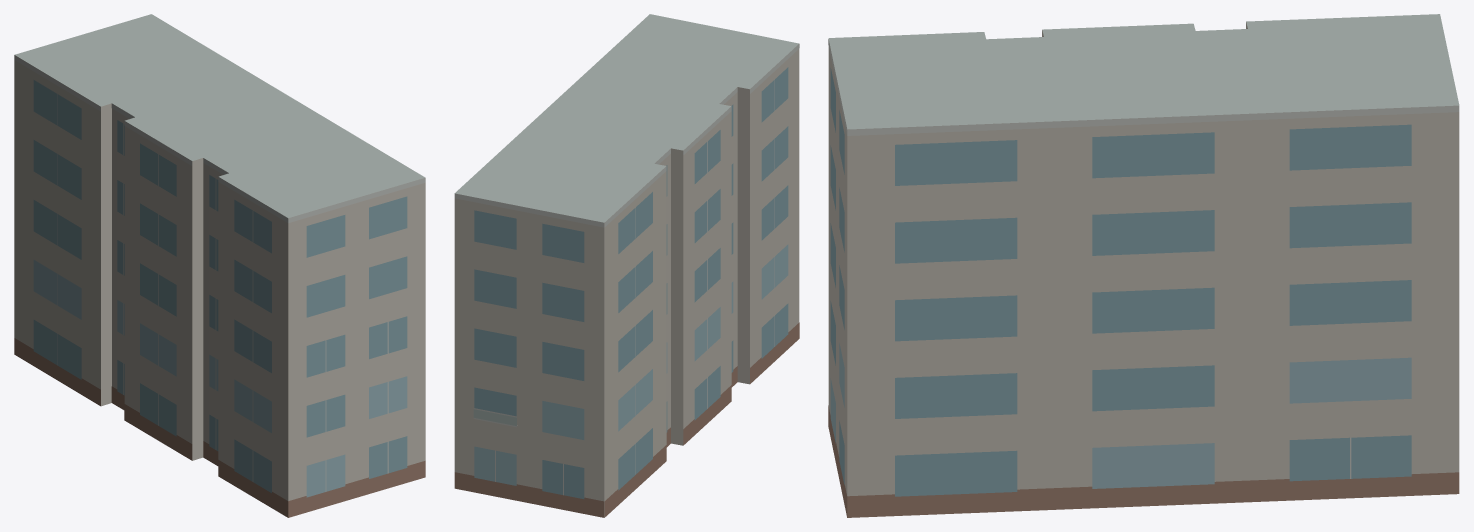
File: survey-upis-32663112.glb
3 renders of one model, left to right at view 1: azimuth 30°, elevation 25°; view 2: azimuth 150°, elevation 25°; view 3: azimuth 270°, elevation 25°, orthographic. The views are drawn at different scales.
Parts seen in each view (by area): view 1: survey-upis-32663112.tmp; view 2: survey-upis-32663112.tmp; view 3: survey-upis-32663112.tmp.
Part boxes in pixels (box(x1,y1,x2,y2)): survey-upis-32663112.tmp: box(14, 14, 425, 517); survey-upis-32663112.tmp: box(454, 14, 799, 517); survey-upis-32663112.tmp: box(828, 14, 1459, 517).
Bounding box in the file's own units: 9.32 × 14.6 × 21.51.
